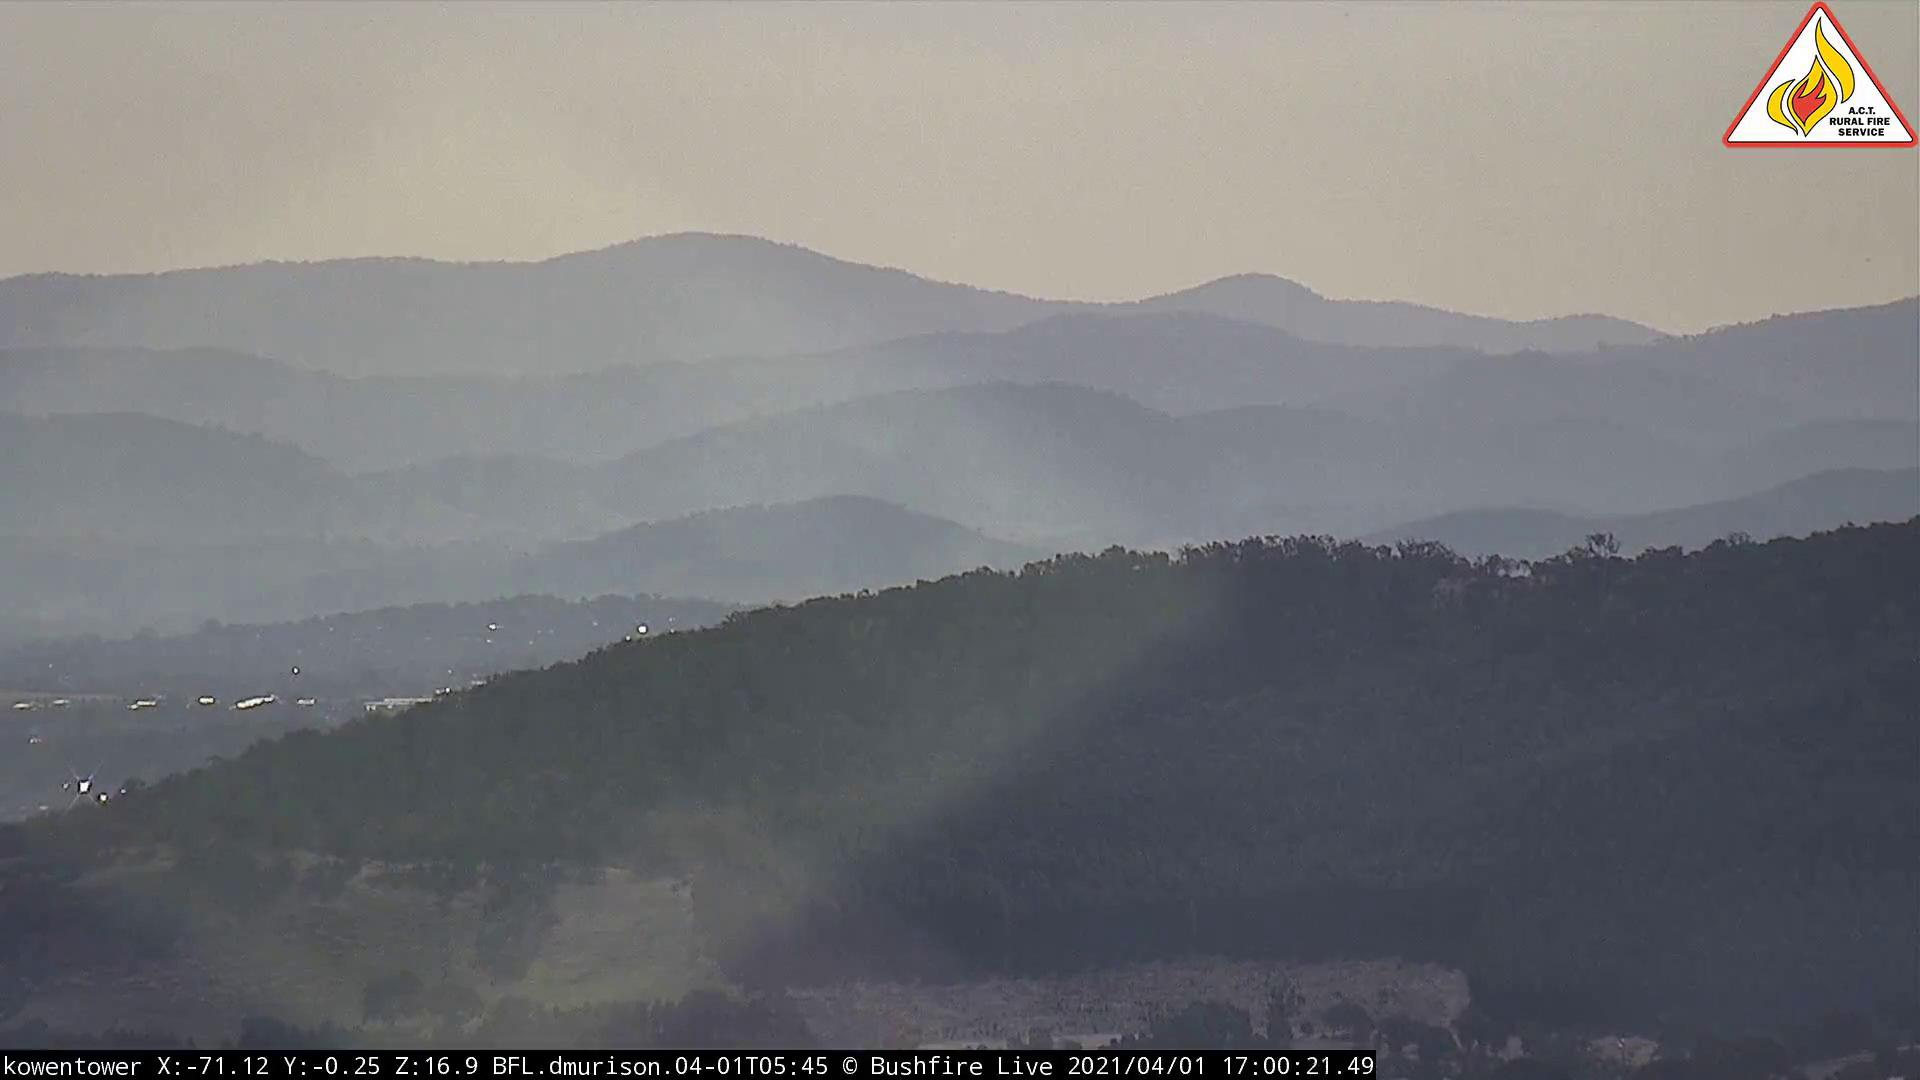instance_salient_object: (957, 450, 1164, 589)
